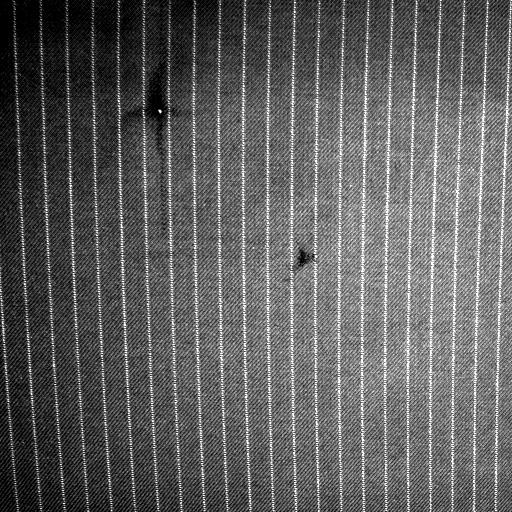fabric_hole: (143, 88, 179, 134), (290, 244, 314, 278)
